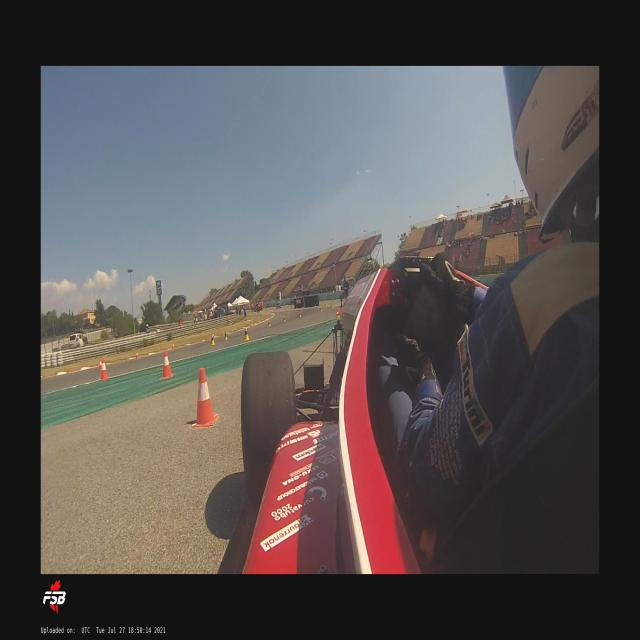orange_cone: (191, 367, 219, 427), (162, 351, 174, 378), (100, 358, 108, 381), (336, 308, 341, 314), (99, 358, 101, 370), (250, 322, 253, 328), (136, 351, 138, 359), (172, 342, 174, 350)
yellow_cone: (245, 328, 250, 340), (211, 334, 215, 346), (268, 320, 271, 328), (225, 332, 228, 339), (338, 314, 340, 324), (283, 316, 286, 322), (299, 311, 301, 317)
